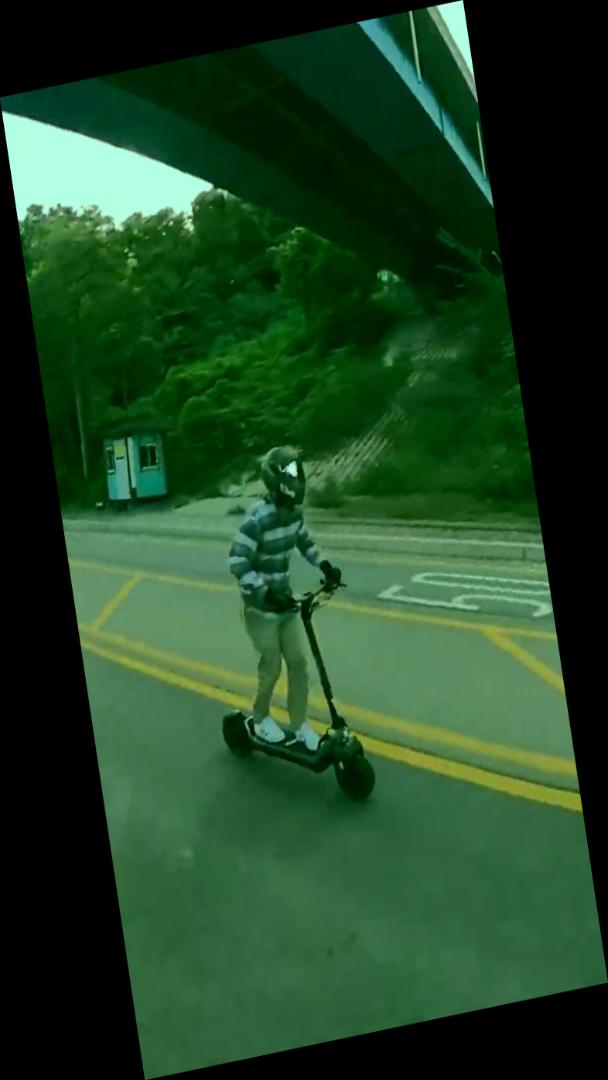helmet: (180, 434, 382, 832)
